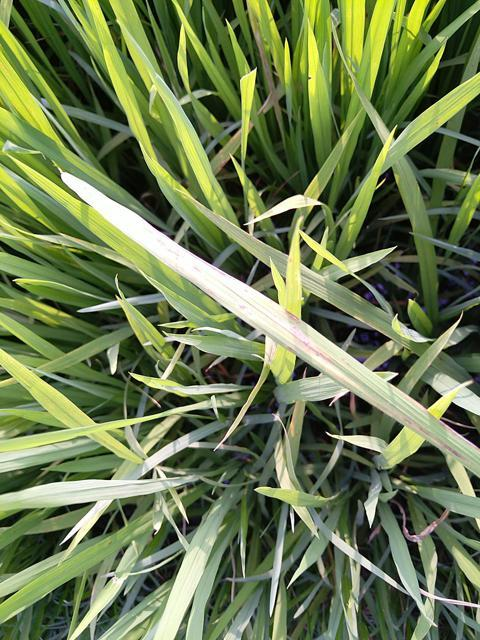Leaf Streak: (60, 173, 479, 478)
